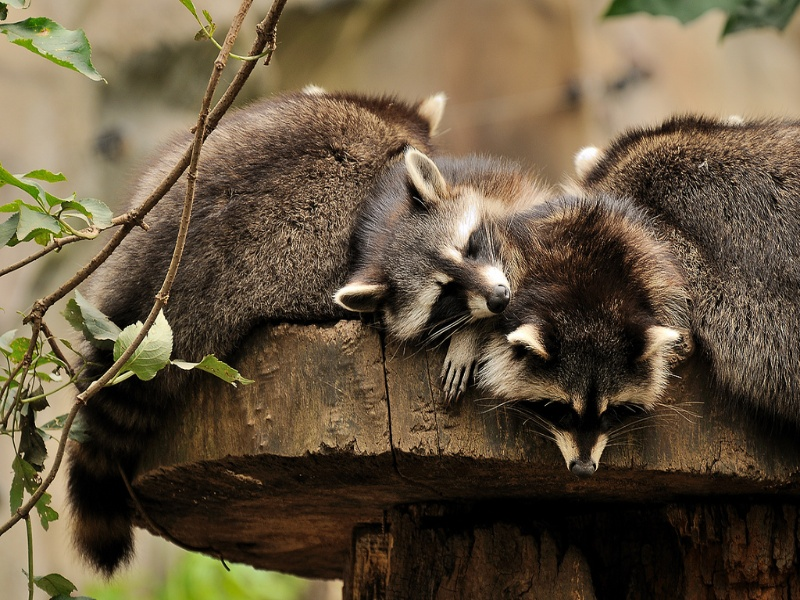raccoon: (63, 91, 515, 581), (408, 133, 702, 493), (565, 104, 800, 448)
